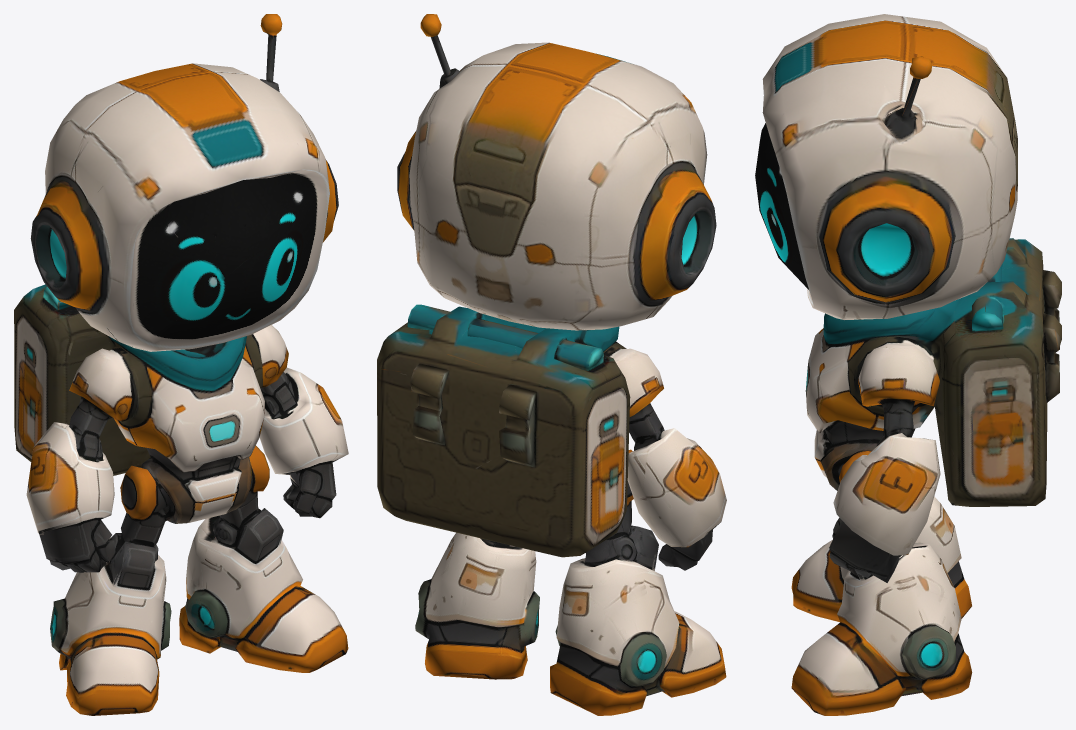
The model's file is Bip.glb.
The picture shows the model from 3 angles, left to right: view 1: azimuth 30°, elevation 25°; view 2: azimuth 150°, elevation 25°; view 3: azimuth 270°, elevation 25°; orthographic projection. The views are drawn at different scales.
Bounding box in the file's own units: 0.4985 × 0.9521 × 0.4111.
Materials: 1 (1 with a texture image).
